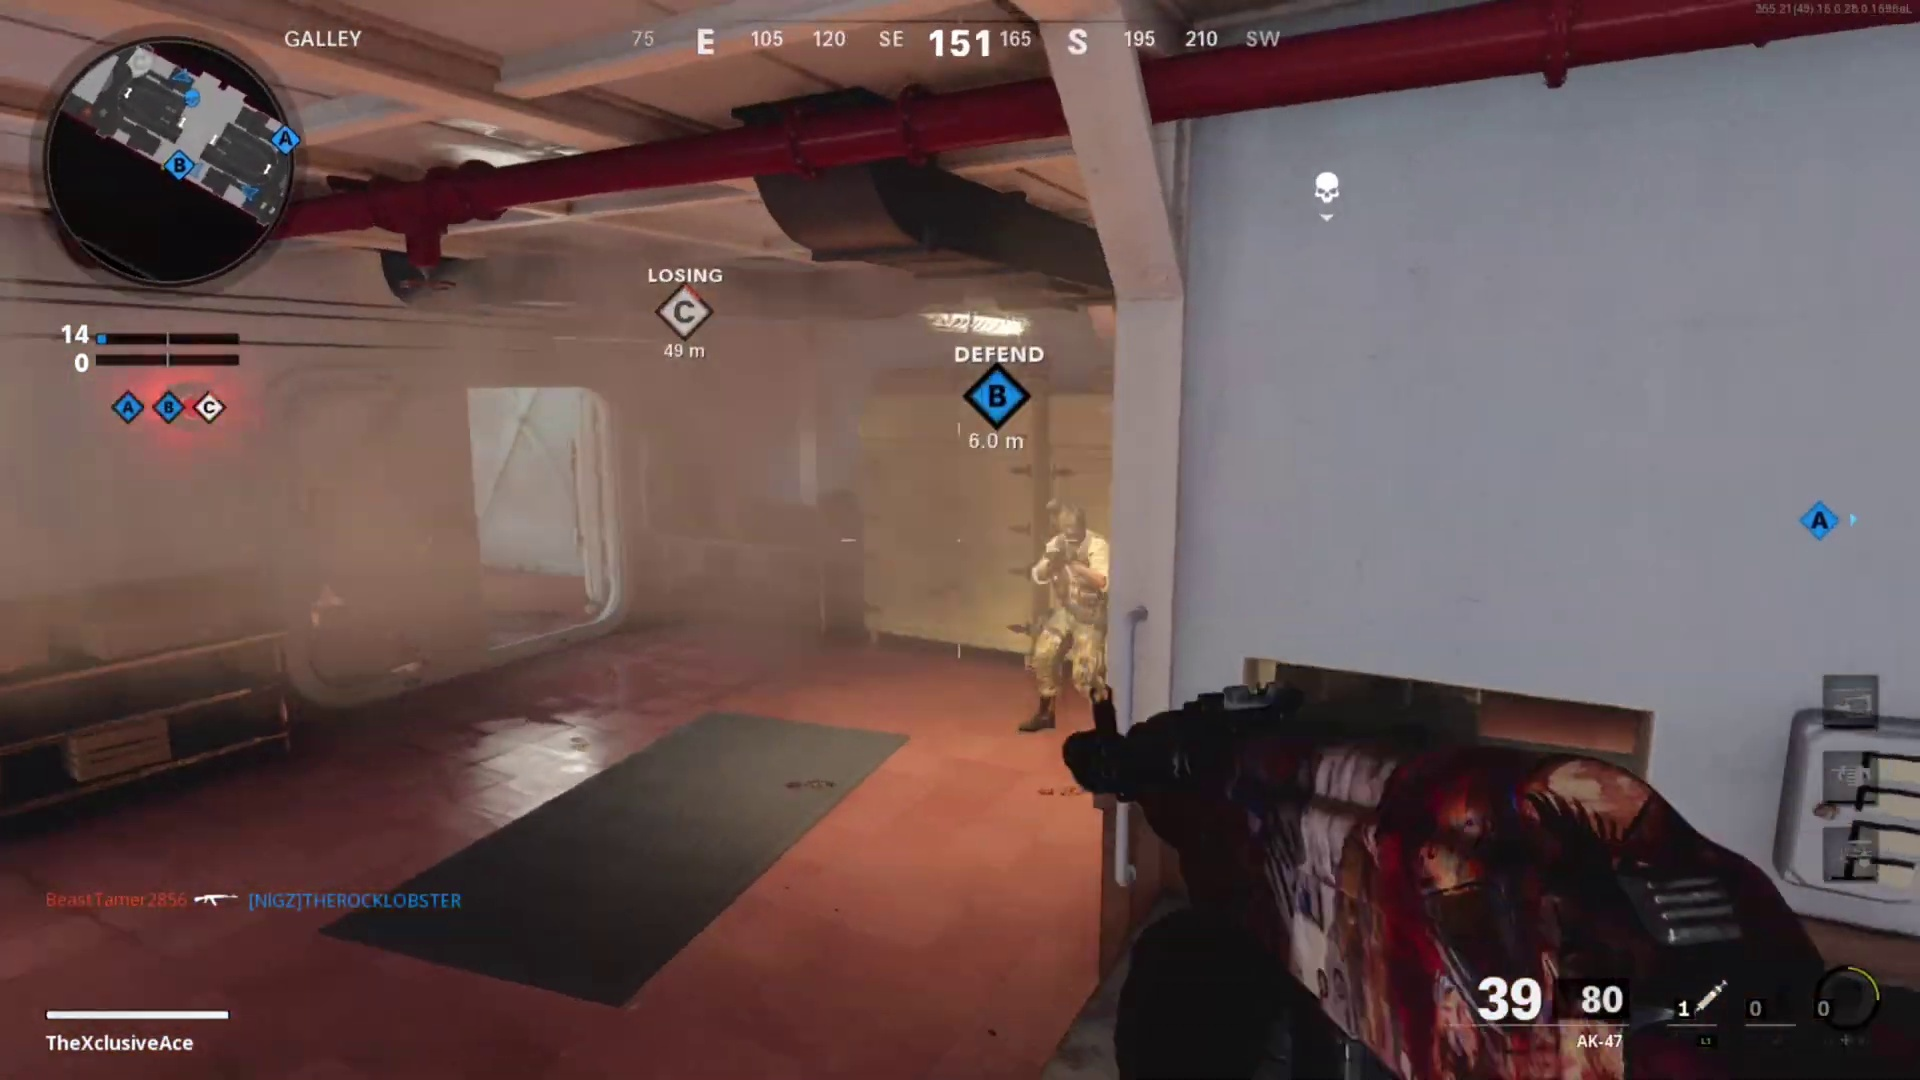head: (1051, 504, 1094, 558)
person: (1020, 502, 1105, 725)
